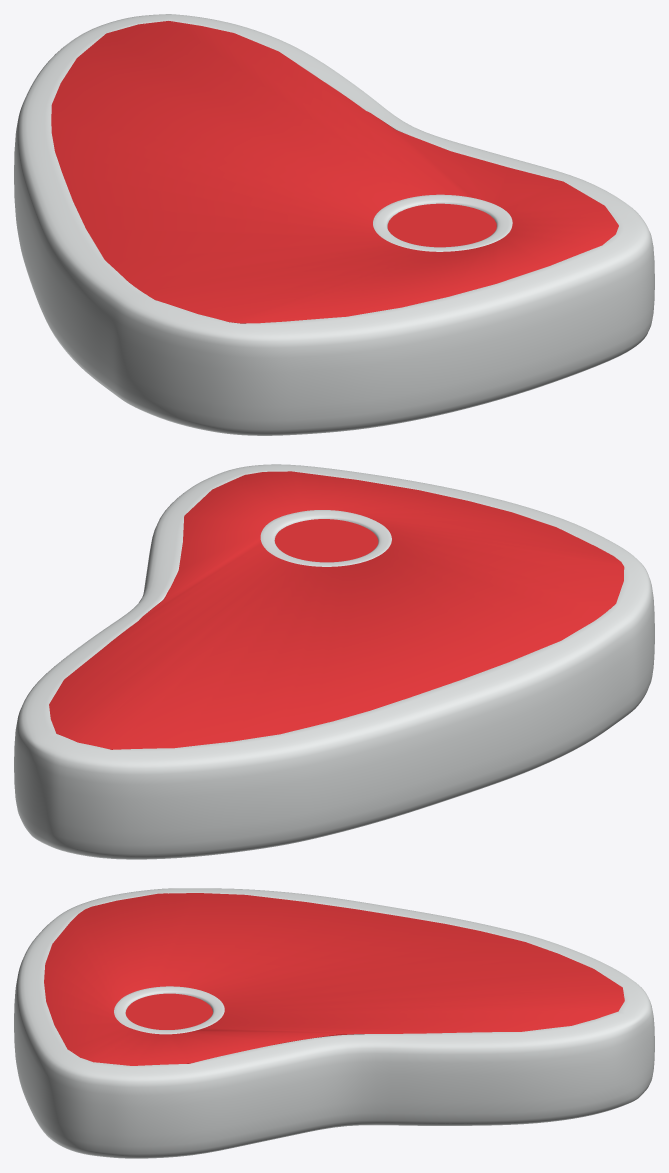
The model's file is Bistecca.fbx.
3 renders of one model, top to bottom at view 1: azimuth 30°, elevation 25°; view 2: azimuth 150°, elevation 25°; view 3: azimuth 270°, elevation 25°, orthographic. The views are drawn at different scales.
Visible parts, largest first — view 1: Carne, Osso; view 2: Carne, Osso; view 3: Osso, Carne.
Boxes of the visible parts, x1=… form: Carne: x1=51, y1=21, x2=618, y2=323; Osso: x1=14, y1=14, x2=654, y2=435; Carne: x1=49, y1=471, x2=624, y2=749; Osso: x1=14, y1=464, x2=654, y2=859; Osso: x1=14, y1=888, x2=654, y2=1158; Carne: x1=44, y1=893, x2=624, y2=1065.
Size of the model in its own units: 225 by 47.92 by 311.
